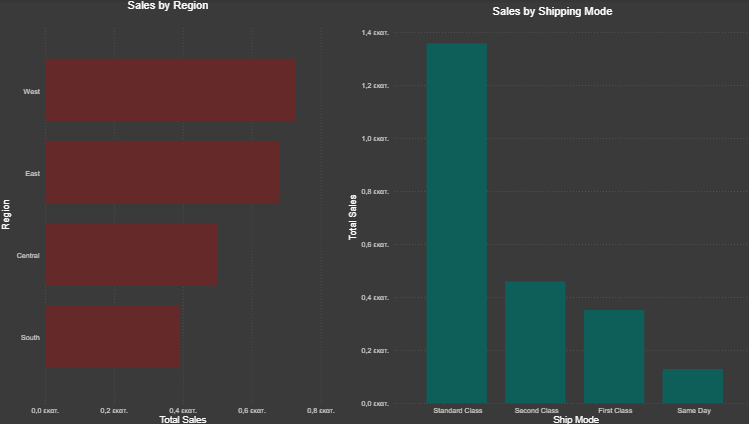

The dashboard page shown, as its layout file describes it:
{"tool":"powerbi","page":{"name":"Σελίδα 4","canvas":[1280,720],"ordinal":3},"visuals":[{"type":"barChart","title":"Sales by Region","fields":{"Category":["SuperstoreData.Region"],"Y":["SuperstoreData.Total Sales"]},"box":[0,0,571.1,720.6],"z":0},{"type":"columnChart","title":"Sales by Shipping Mode","fields":{"Category":["SuperstoreData.Ship Mode"],"Y":["SuperstoreData.Total Sales"]},"box":[582.9,10.1,697.1,710.6],"z":1000}]}

Visuals, with their boxes in screenshot pixels (x1, y1, x2, y2), scaled from the page's 1280x720 canvas onto the 749x424 screenshot:
"Sales by Region" barChart: box=[0, 0, 334, 423]
"Sales by Shipping Mode" columnChart: box=[341, 6, 748, 423]
